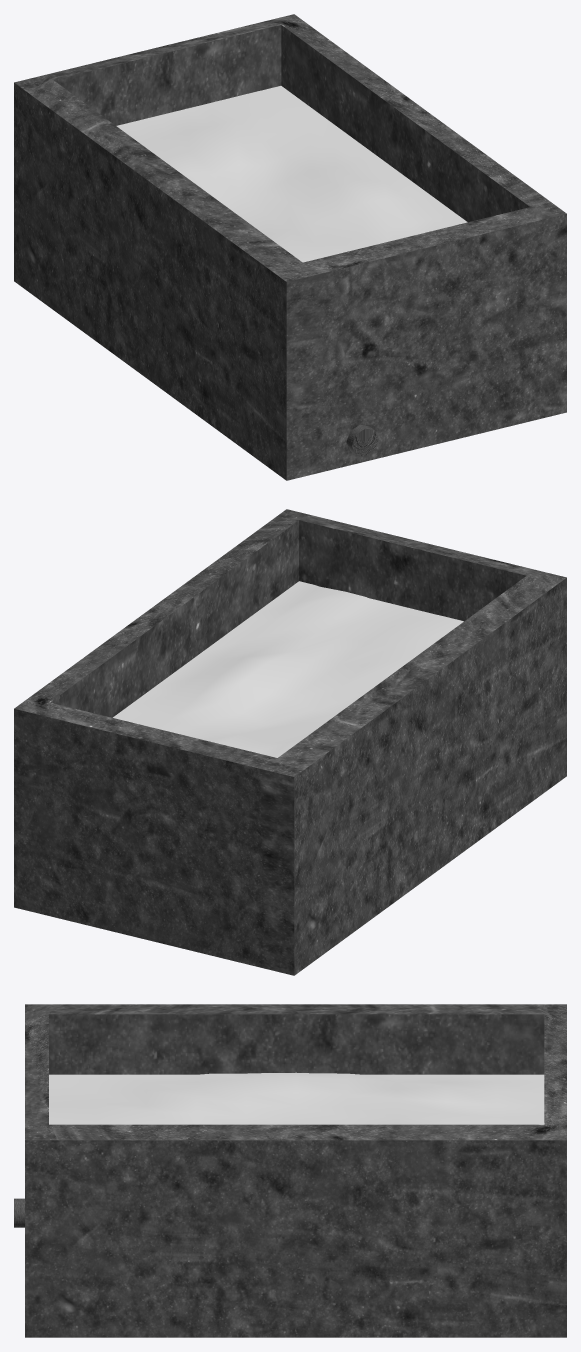
The model's file is toilet_bathtub.fbx.
The picture shows the model from 3 angles, top to bottom: view 1: azimuth 30°, elevation 25°; view 2: azimuth 150°, elevation 25°; view 3: azimuth 270°, elevation 25°; orthographic projection.
Visible parts, largest first — view 1: toilet_bathtub, Plane004, Cylinder002; view 2: toilet_bathtub, Plane004; view 3: toilet_bathtub, Plane004.
Boxes of the visible parts, x1,y1,x2,y2 form: toilet_bathtub: (14, 14, 566, 480); Plane004: (116, 86, 467, 262); Cylinder002: (346, 424, 378, 456); toilet_bathtub: (14, 509, 566, 975); Plane004: (113, 581, 463, 757); toilet_bathtub: (25, 1004, 566, 1337); Plane004: (49, 1072, 544, 1124).
Size of the model in its own units: 132 by 226 by 90.78.
Materials: 1 (1 with a texture image).
